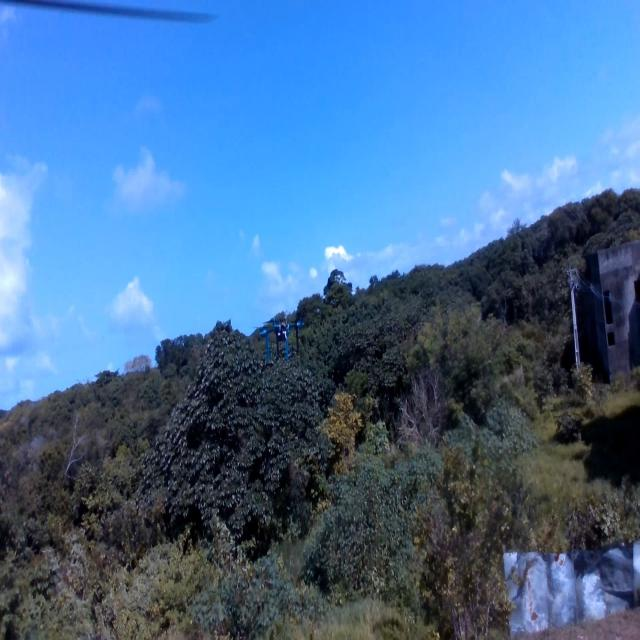-uav-: (254, 310, 309, 363)
